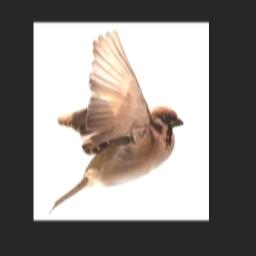Sparrow: (47, 28, 183, 213)
